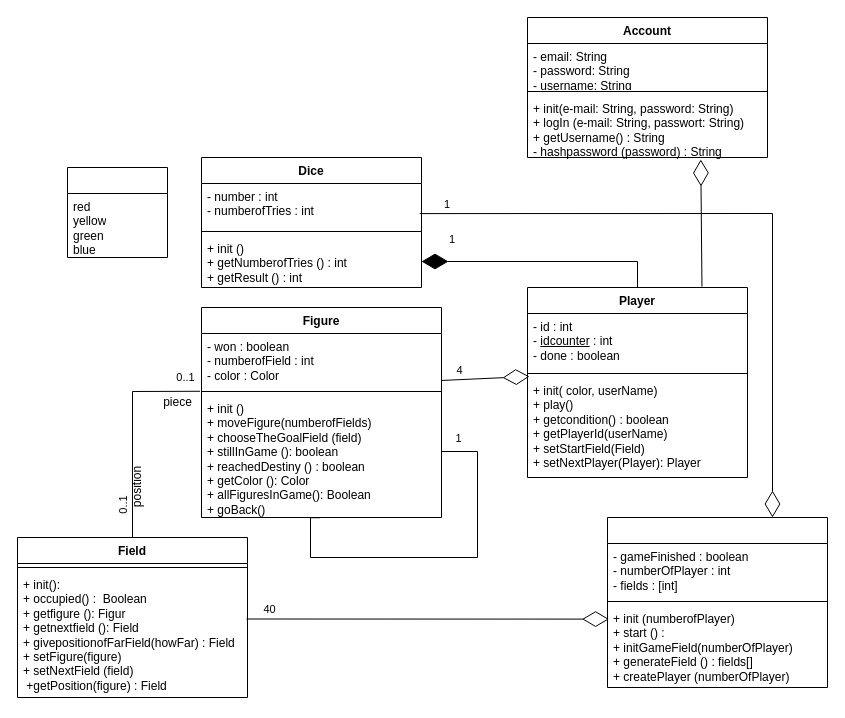
Some shapes in this 845 by 718 pixel diagram are drawn without their labels. The shapes that lost their labels are listed below. From the top down, each one's box as (x1, y1, x2, y2) in pixels, then its label:
(66, 166, 168, 258): <<Enum>> Color
(606, 516, 828, 688): Gamemanagment
